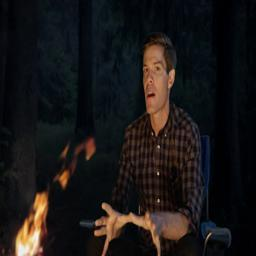fire: (12, 190, 49, 256)
